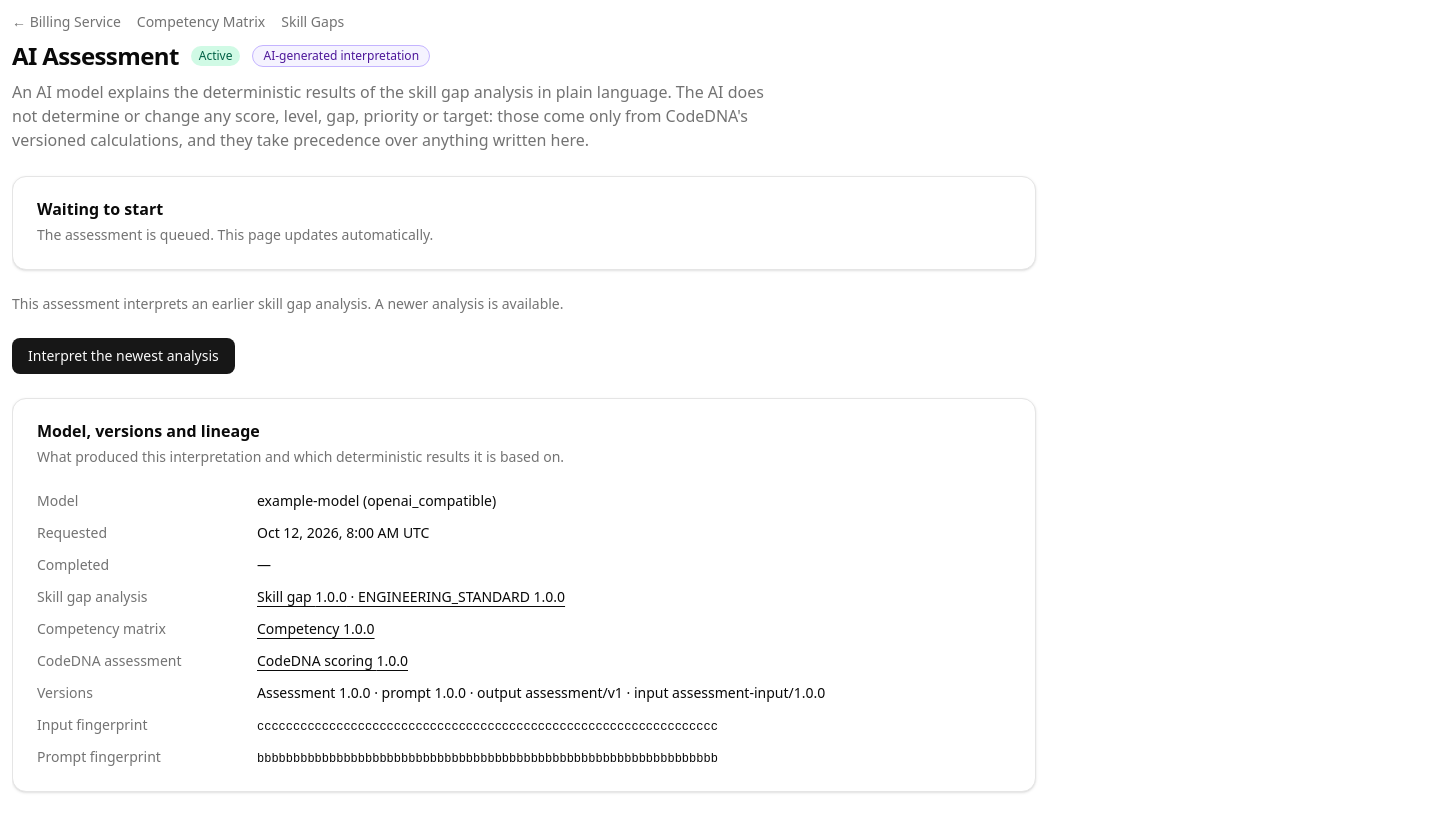
AssessmentView › never lets a late poll of an earlier assessment replace a newer one
Expected: the message "Waiting to start The assessment is queued. This page updates automatically." is shown, [12,176,1036,270]
Step 1. Click the button with test id "assessment-request" → (123, 356), box [12,338,235,374]
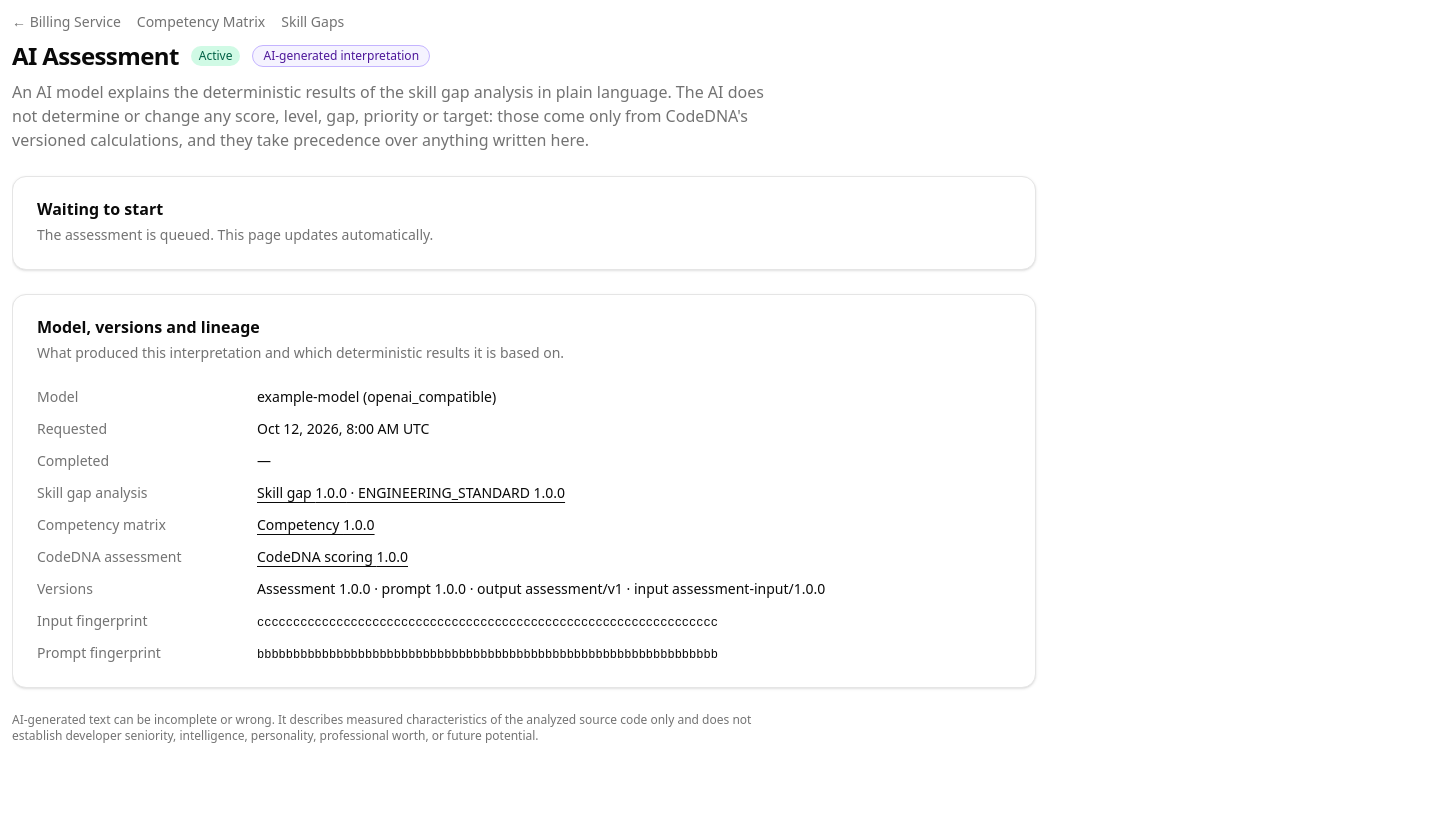
Expected: the message "Waiting to start The assessment is queued. This page updates automatically." is shown, [12,176,1036,270]
Now the text with test id "assessment-outdated" is gone
